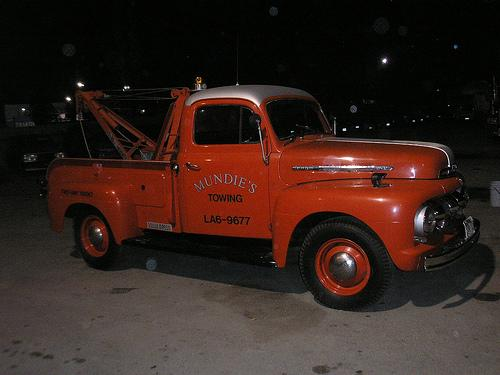truck: (35, 74, 481, 311)
